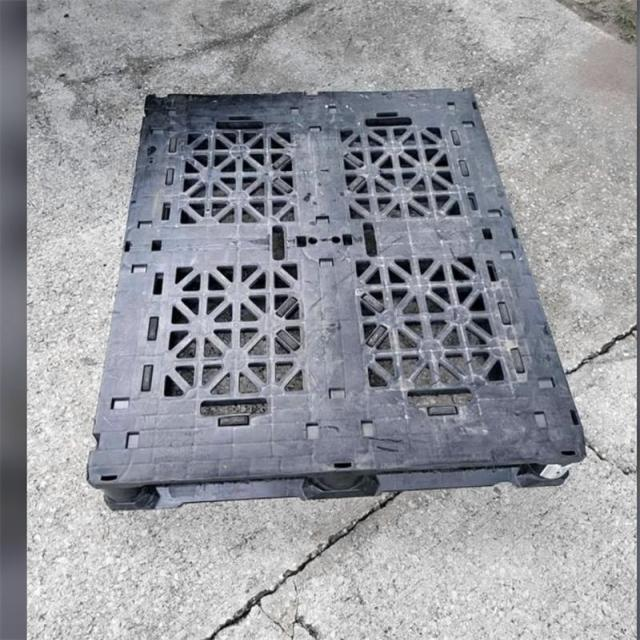igps: (81, 77, 596, 516)
